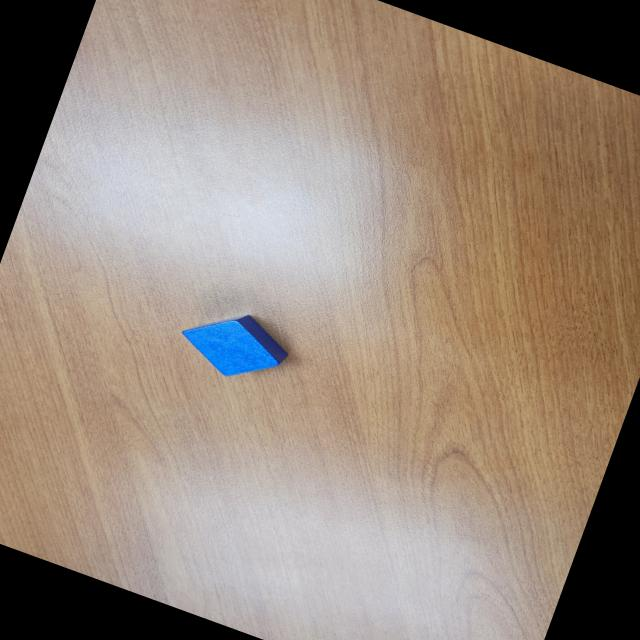blue: (171, 296, 297, 395)
